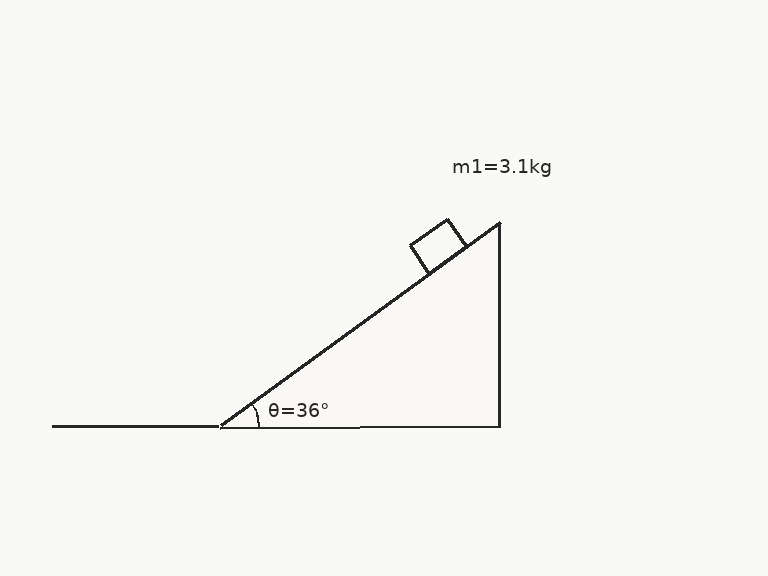block: (407, 217, 469, 275)
ramp: (217, 221, 501, 428)
